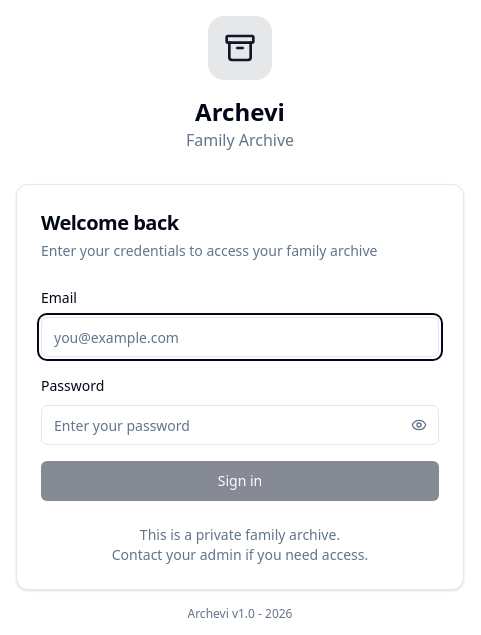
it: LoginPage › enables submit button when fields are filled
Type "test@example.com" into the field labelled "Email" at x=240, y=337, box top-left (41, 317), bottom-right (439, 357)
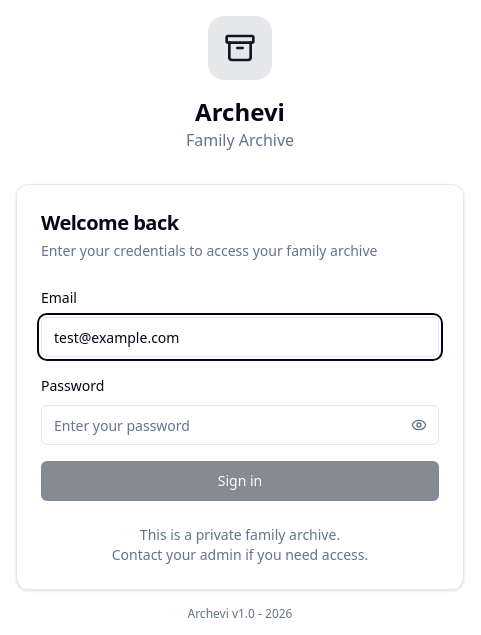
Type "password123" into the password field with placeholder "Enter your password" at x=240, y=425, box top-left (41, 405), bottom-right (439, 445)
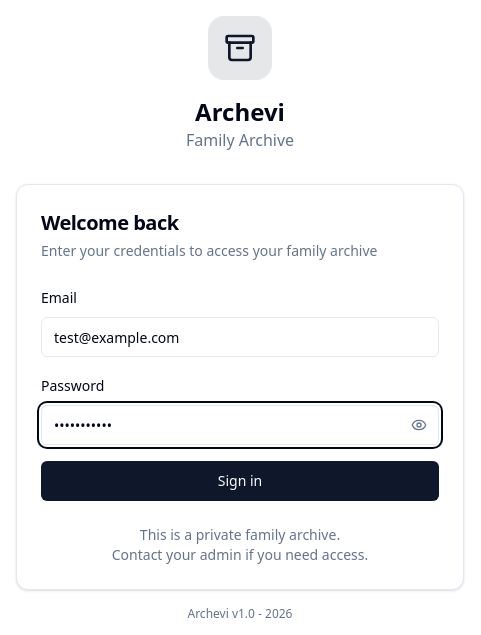
Expected: the button "Sign in" is enabled, top-left (41, 461), bottom-right (439, 501)
